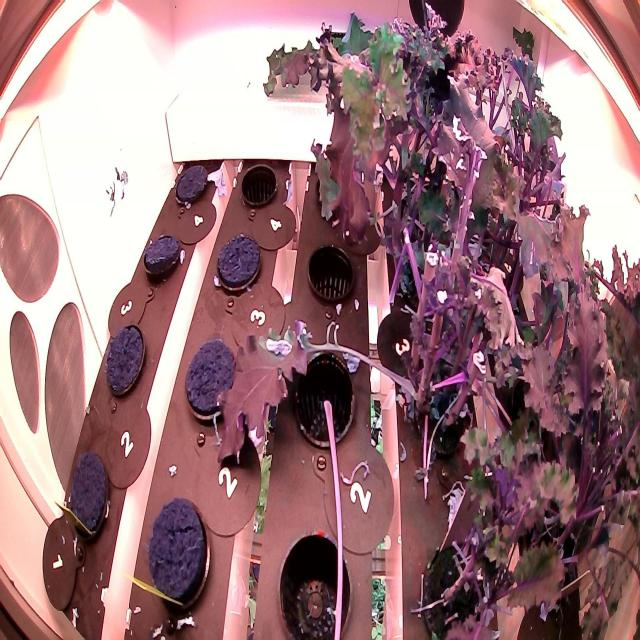empty_pod: (265, 525, 360, 640), (288, 341, 360, 469), (300, 229, 358, 318), (236, 156, 280, 212)
pod: (144, 493, 215, 617), (182, 334, 240, 428), (64, 449, 114, 544), (99, 316, 154, 402), (210, 231, 267, 294), (138, 226, 186, 285), (170, 154, 214, 208)
